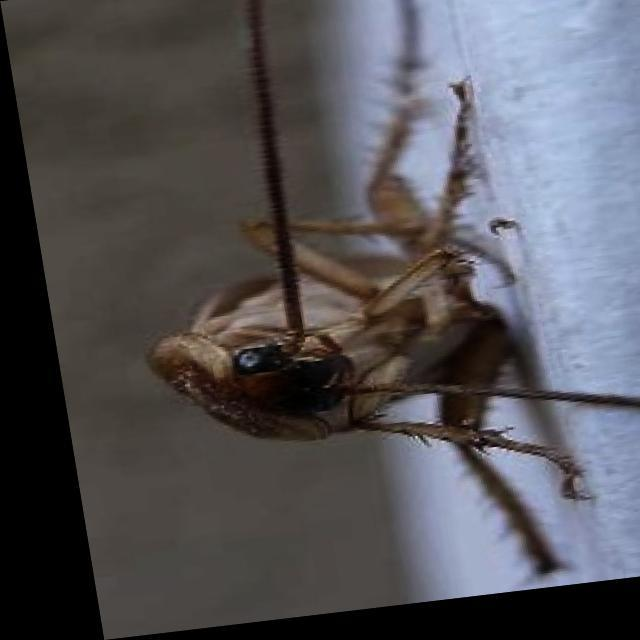cockroach: (99, 138, 640, 577)
